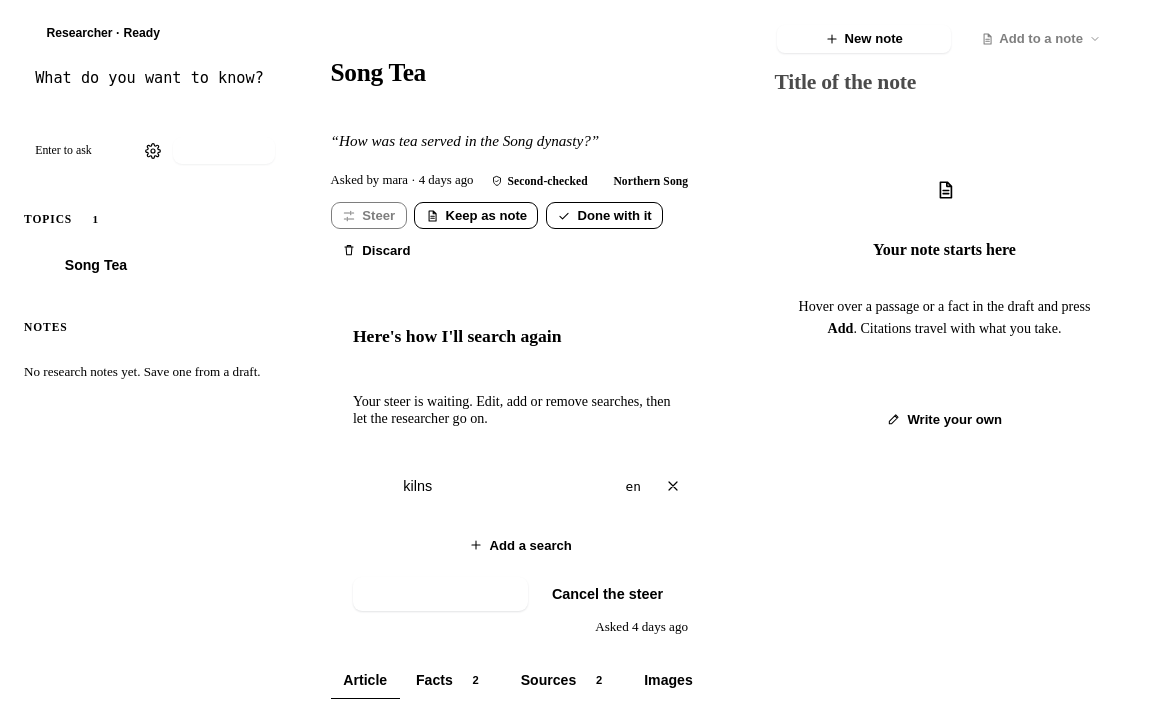
Test: Studio › a steer cancelled at its plan leaves the draft free to steer again
The image size is (1152, 720).
Click the button "Cancel the steer" at (608, 594), box [536, 577, 678, 611]
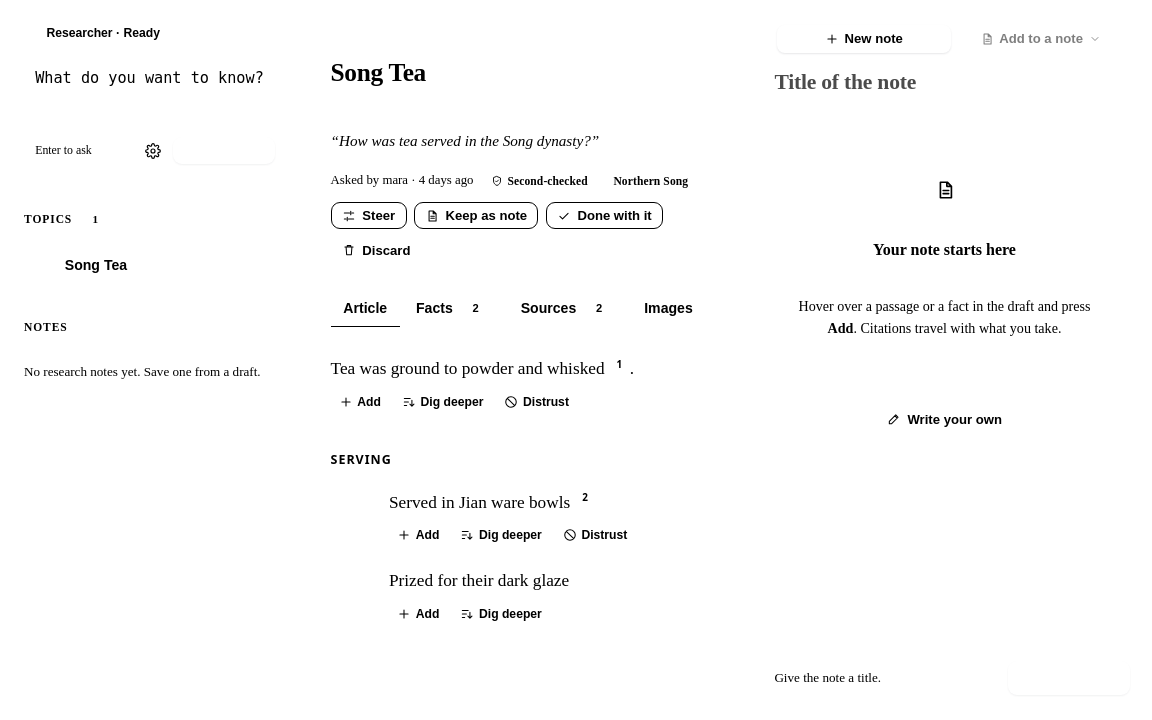
Expected: the button "Steer" is enabled, [330, 202, 406, 230]
